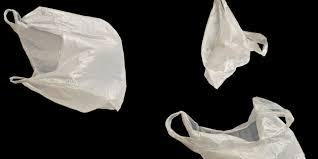Plastic bag: (4, 6, 149, 122), (162, 91, 318, 159), (184, 1, 277, 91)
